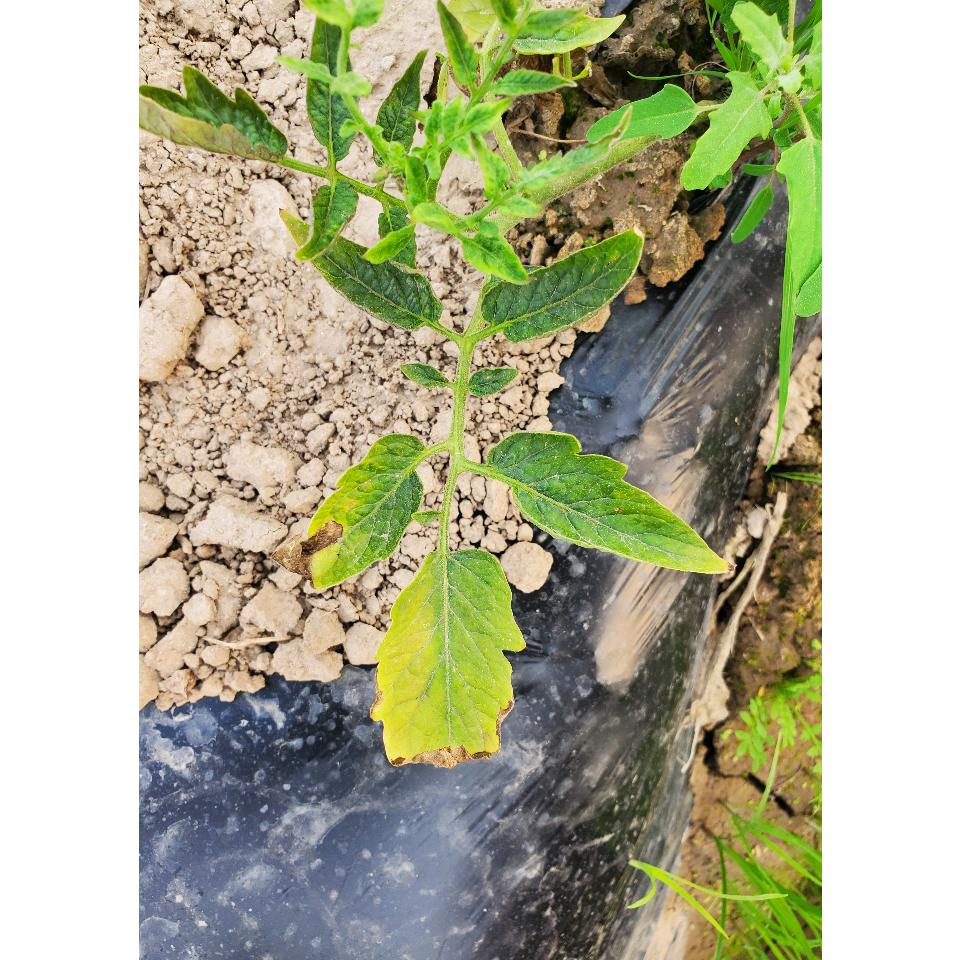tomato_leaves: (488, 229, 648, 345), (282, 217, 436, 334)
tomato_yellow_leaf_curl_virus: (492, 431, 732, 575), (370, 546, 516, 766), (301, 434, 428, 588)
